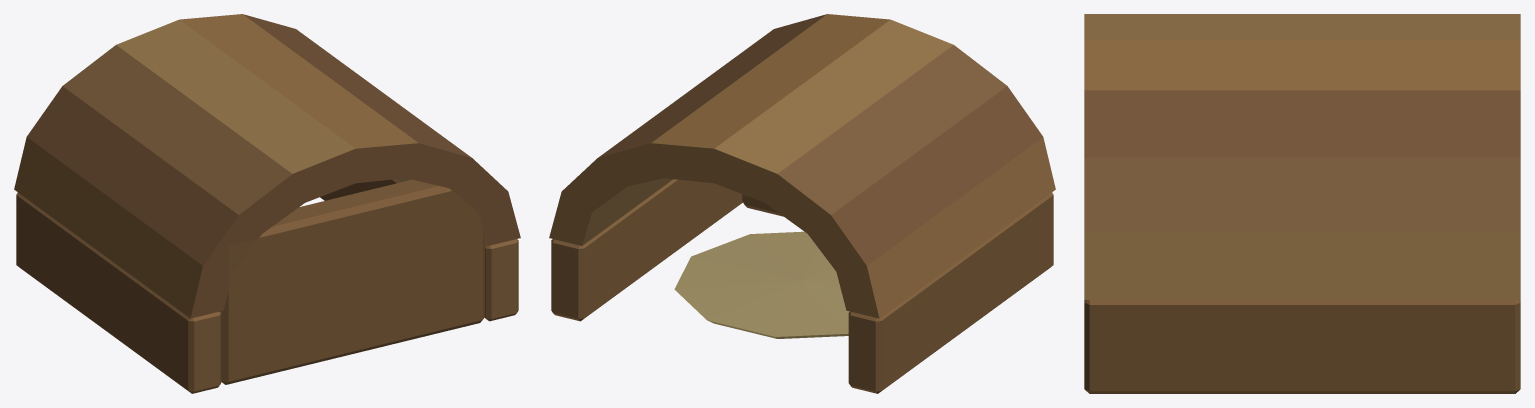
File: HedgehogShelter.glb
3 views of the same model, side by side, from view 1: azimuth 30°, elevation 25°; view 2: azimuth 150°, elevation 25°; view 3: azimuth 270°, elevation 25° (orthographic). The views are drawn at different scales.
Parts seen in each view (by area): view 1: HedgehogShelter_Arrangement; view 2: HedgehogShelter_Arrangement; view 3: HedgehogShelter_Arrangement.
Part boxes in pixels (box(x1,y1,x2,y2)): HedgehogShelter_Arrangement: box(14, 14, 520, 393); HedgehogShelter_Arrangement: box(549, 14, 1055, 393); HedgehogShelter_Arrangement: box(1084, 14, 1520, 393).
Size of the model in its own units: 0.8 by 0.48 by 0.74.
